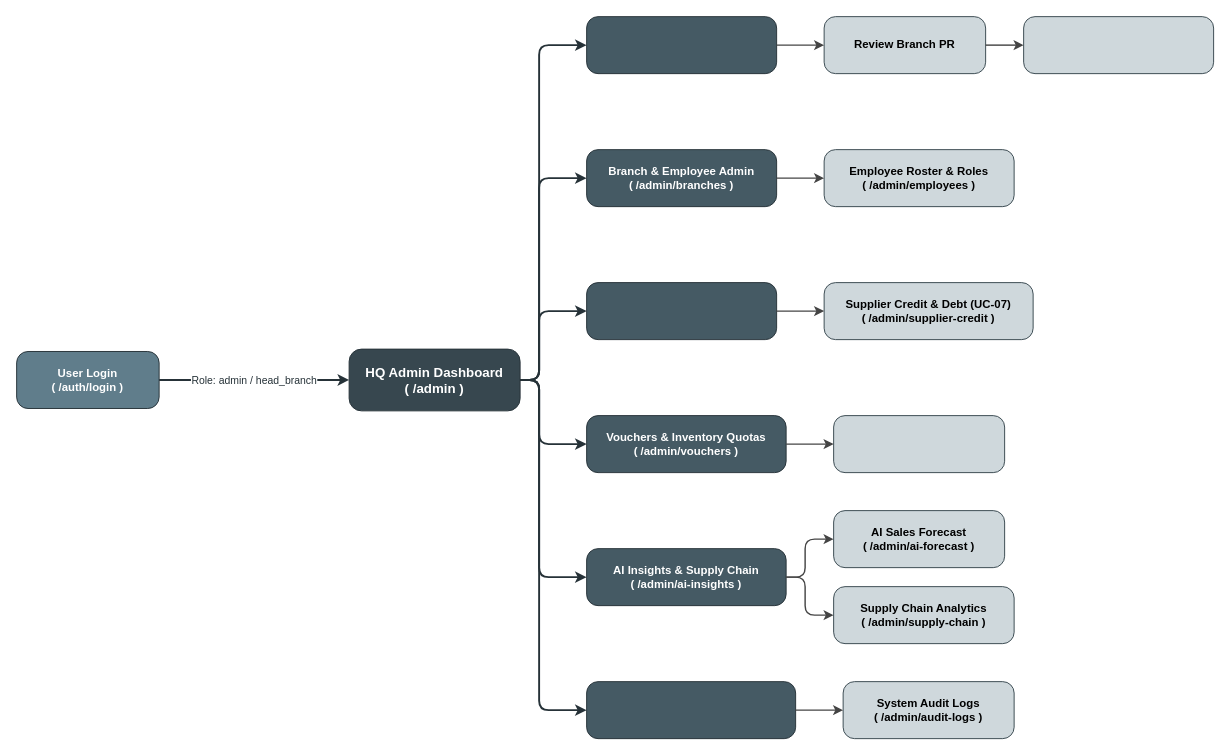
The diagram is 1230 pixels wide and 755 high, and some of its shapes have lost their labels. The centre of each missing label's shape, as x and y in pixels:
Consolidate PR & Issue PO: the point at 1118,45
HQ Requisition Approvals ( /admin/approvals ): the point at 681,45
Quota Management ( /admin/quotas ): the point at 919,444
System Finance Control ( /admin/finance ): the point at 681,311
System Reports & Audit Logs ( /admin/reports ): the point at 691,710
